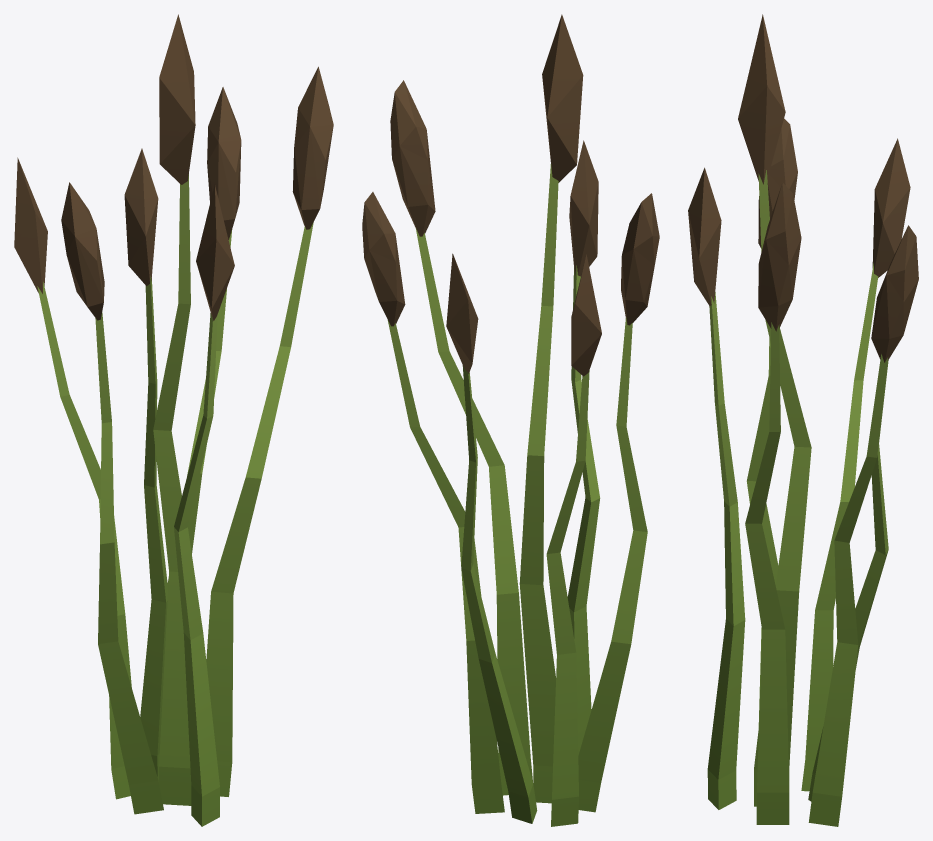
Rendered from Mesh_Nature_Reeds_01.FBX.
3 views of the same model, side by side, from view 1: azimuth 30°, elevation 25°; view 2: azimuth 150°, elevation 25°; view 3: azimuth 270°, elevation 25° (orthographic).
Visible parts, largest first — view 1: Mesh_Nature_Reeds_01; view 2: Mesh_Nature_Reeds_01; view 3: Mesh_Nature_Reeds_01.
Boxes of the visible parts, left/top/right/bottom form: Mesh_Nature_Reeds_01: left=14, top=14, right=333, bottom=826; Mesh_Nature_Reeds_01: left=362, top=14, right=659, bottom=826; Mesh_Nature_Reeds_01: left=688, top=14, right=918, bottom=826.
Size of the model in its own units: 12.99 by 37.01 by 9.81.
